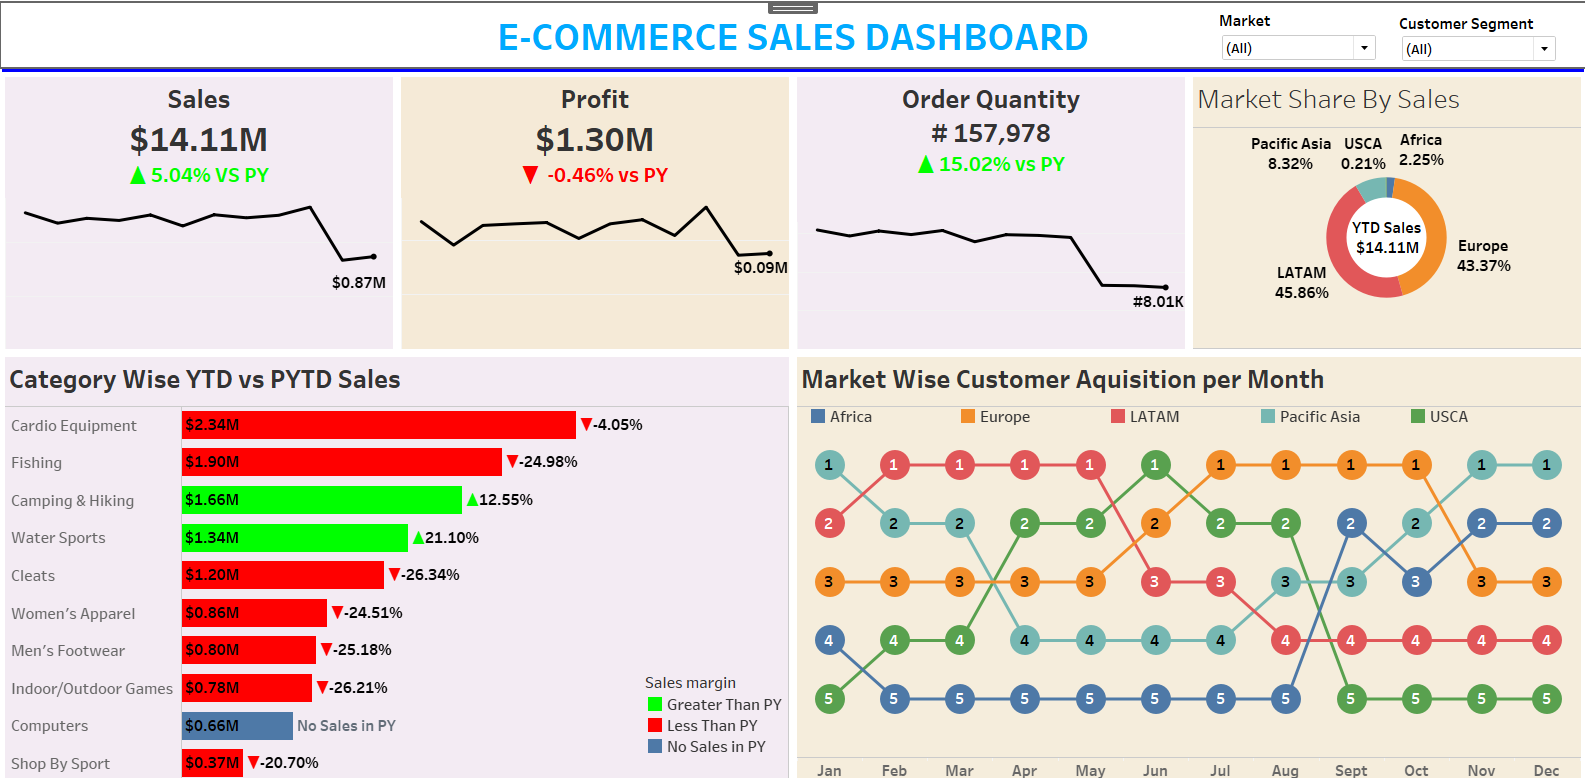

This screenshot's page, from the dashboard's own definition file:
{"tool":"tableau","page":{"name":"Dashboard 1","canvas":[1600,800],"ordinal":0},"visuals":[{"type":"title","box":[8,8,1584,64]},{"type":"filter","title":"Category Wise YTD vs PYTD Sales","param":"[federated.0w84cll0t103wt18861h60iqgwjg].[none:Market:nk]","box":[1226,15,160,56]},{"type":"filter","title":"Category Wise YTD vs PYTD Sales","param":"[federated.0w84cll0t103wt18861h60iqgwjg].[none:Customer Segment:nk]","box":[1406,18,160,49]},{"type":"blank","box":[8,72,1584,6]},{"type":"worksheet","title":"Sale KPI","mark":"Automatic","rows":["Sales"],"cols":["Order Date"],"box":[8,78,396,280]},{"type":"worksheet","title":"Profit KPI ","mark":"Automatic","rows":["Profit Per Order"],"cols":["Order Date"],"box":[404,78,396,280]},{"type":"worksheet","title":"Order Quantity KPI","mark":"Automatic","rows":["Order Quantity"],"cols":["Order Date"],"box":[800,78,396,280]},{"type":"worksheet","title":"Market Share By Sales","mark":"Pie","cols":["Calculation_946881830767976458","Calculation_946881830768001036"],"box":[1196,78,396,280]},{"type":"worksheet","title":"Category Wise YTD vs PYTD Sales","mark":"Bar","rows":["Category Name"],"cols":["Calculation_946881830768898061","Calculation_946881830768898061"],"box":[8,358,792,434]},{"type":"worksheet","title":"Market Wise Customer Aquisition per Month","mark":"Automatic","cols":["Order Date"],"box":[800,358,792,434]},{"type":"legend","title":"Market Wise Customer Aquisition per Month","param":"[federated.0w84cll0t103wt18861h60iqgwjg].[none:Market:nk]","box":[815,411,752,34]},{"type":"legend","title":"Category Wise YTD vs PYTD Sales","param":"[federated.0w84cll0t103wt18861h60iqgwjg].[usr:Calculation_946881830774456336:nk]","box":[652,677,142,108]}]}

Visuals, with their boxes in screenshot pixels (x1, y1, x2, y2), scaled from the page's 1600x800 canvas onto the 1585x778 screenshot:
title: crop(8, 8, 1577, 70)
"Category Wise YTD vs PYTD Sales" filter: crop(1215, 15, 1373, 69)
"Category Wise YTD vs PYTD Sales" filter: crop(1393, 18, 1551, 65)
blank: crop(8, 70, 1577, 76)
"Sale KPI" worksheet: crop(8, 76, 400, 348)
"Profit KPI " worksheet: crop(400, 76, 792, 348)
"Order Quantity KPI" worksheet: crop(792, 76, 1185, 348)
"Market Share By Sales" worksheet (Pie marks): crop(1185, 76, 1577, 348)
"Category Wise YTD vs PYTD Sales" worksheet (Bar marks): crop(8, 348, 792, 770)
"Market Wise Customer Aquisition per Month" worksheet: crop(792, 348, 1577, 770)
"Market Wise Customer Aquisition per Month" legend: crop(807, 400, 1552, 433)
"Category Wise YTD vs PYTD Sales" legend: crop(646, 658, 787, 763)
